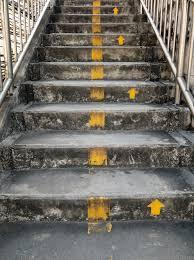Bench: (5, 0, 192, 227)
